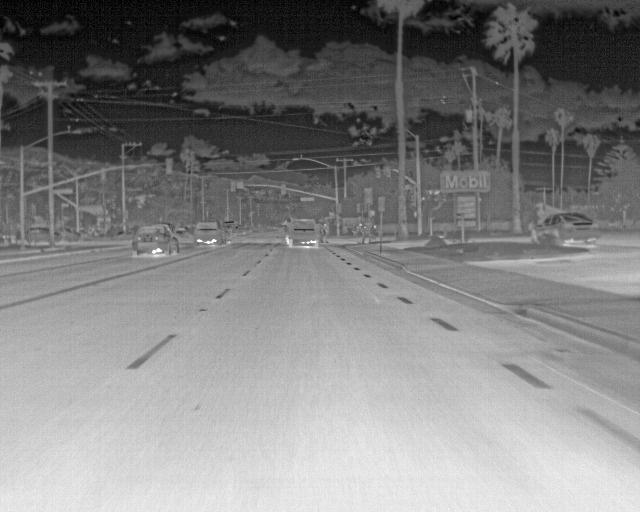car: (534, 210, 600, 244), (132, 222, 179, 253), (285, 218, 322, 248), (191, 220, 227, 247), (25, 224, 50, 242)
